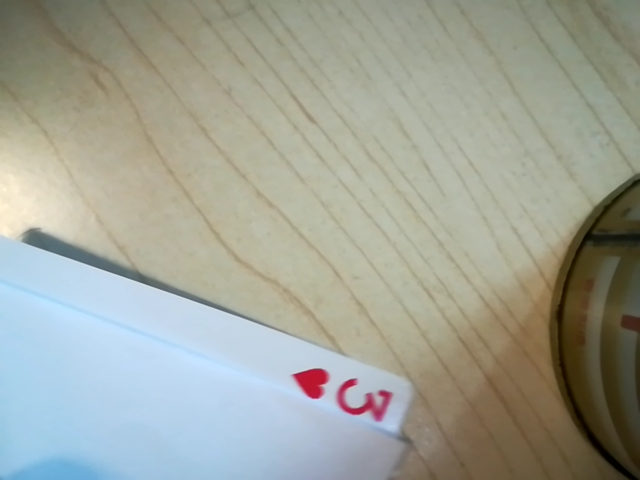hx 3: (294, 365, 405, 429)
